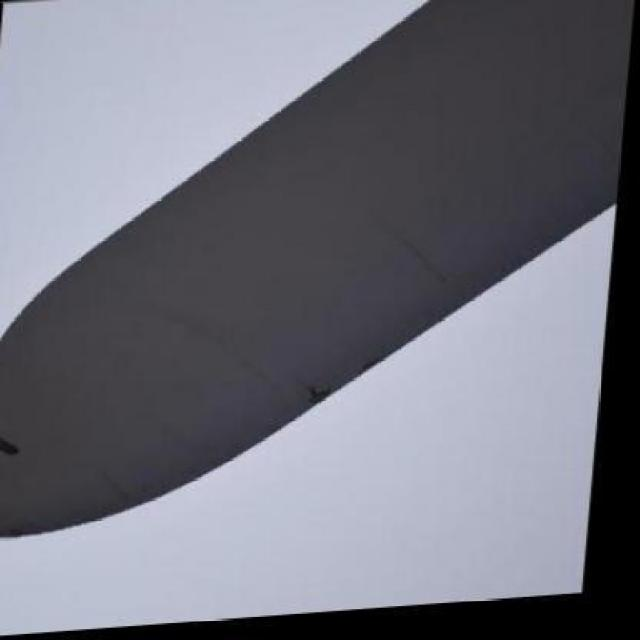Burn Mark: (0, 421, 25, 461)
